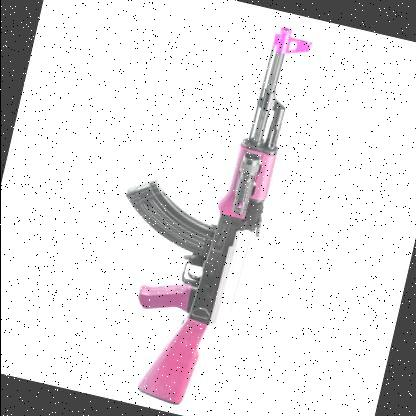rifle: (89, 4, 325, 416)
